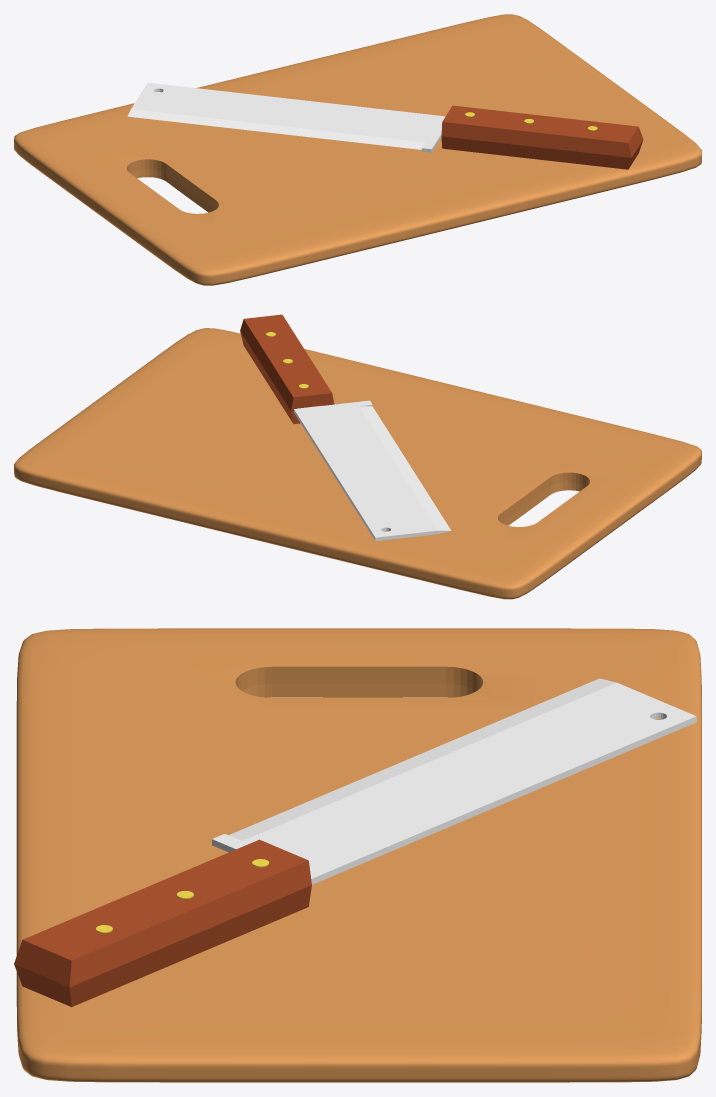
The model's file is Cutting_Board.fbx.
The picture shows the model from 3 angles, top to bottom: view 1: azimuth 30°, elevation 25°; view 2: azimuth 150°, elevation 25°; view 3: azimuth 270°, elevation 25°; orthographic projection. The views are drawn at different scales.
Visible parts, largest first — view 1: Cutting_Board, Knife; view 2: Cutting_Board, Knife; view 3: Cutting_Board, Knife.
Boxes of the visible parts, bbox=[...] form: Cutting_Board: bbox=[14, 14, 701, 285]; Knife: bbox=[127, 82, 643, 169]; Cutting_Board: bbox=[14, 328, 701, 599]; Knife: bbox=[240, 314, 451, 541]; Cutting_Board: bbox=[16, 628, 701, 1082]; Knife: bbox=[14, 678, 696, 1006].
Size of the model in its own units: 30 by 2.54 by 20.08.
